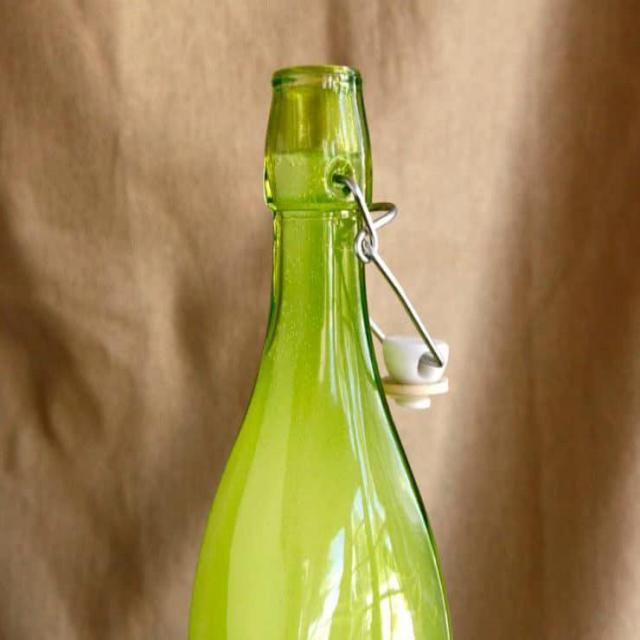non-organic waste: (182, 55, 460, 640)
